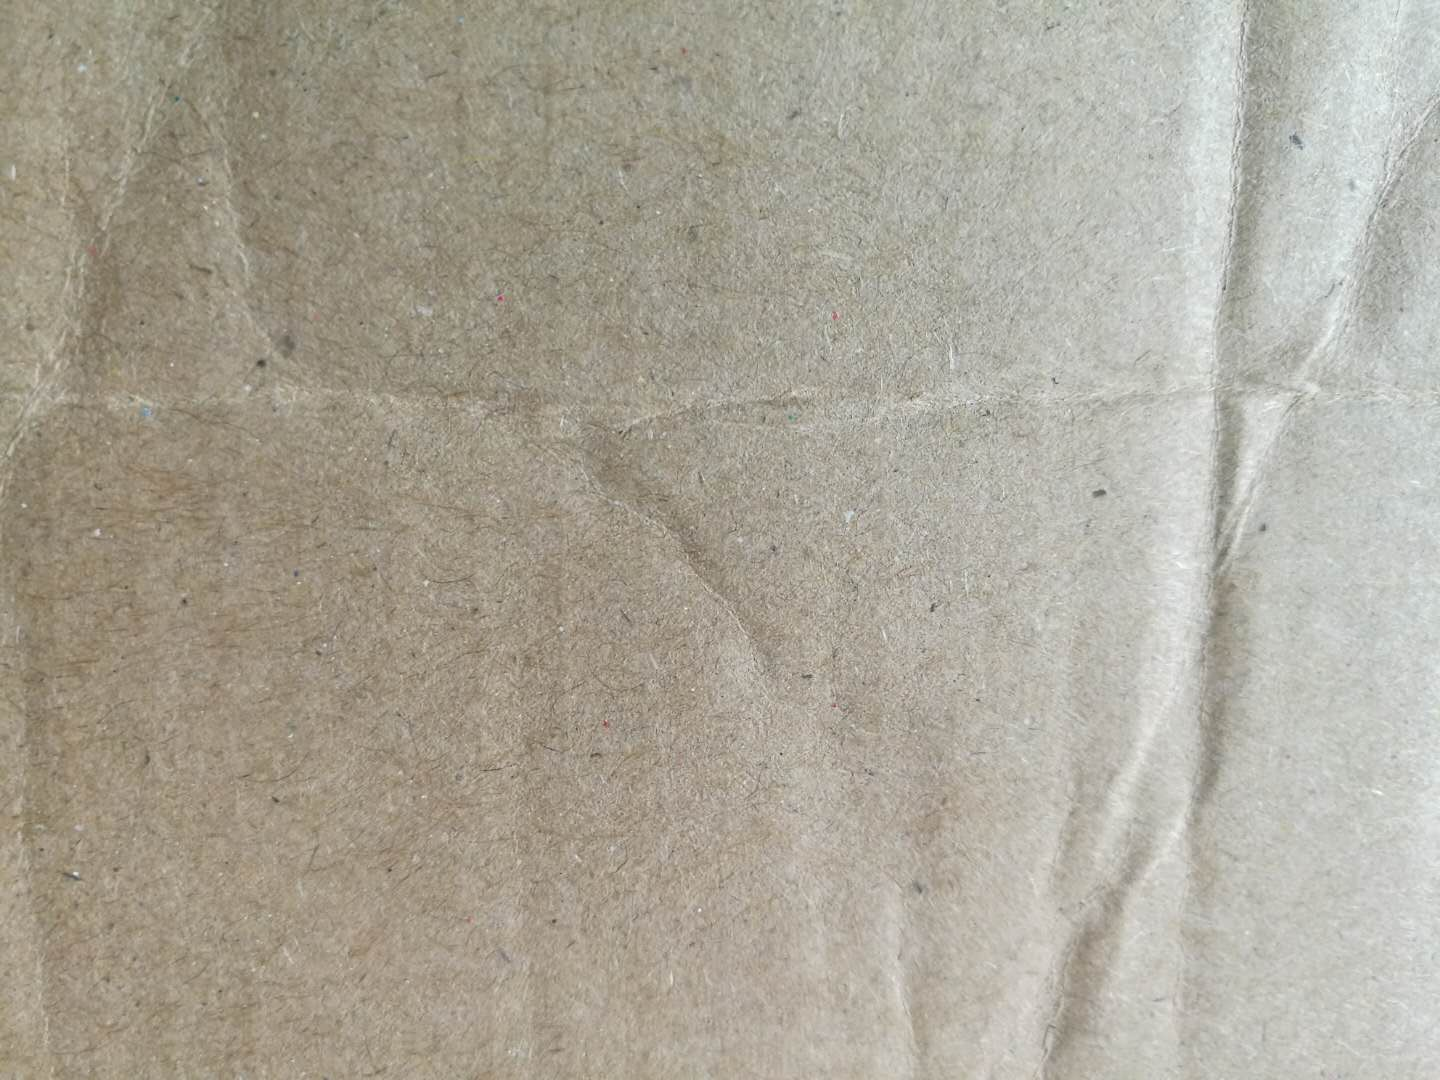defect: (1, 341, 1440, 687), (1008, 3, 1435, 1080), (2, 5, 332, 515)
